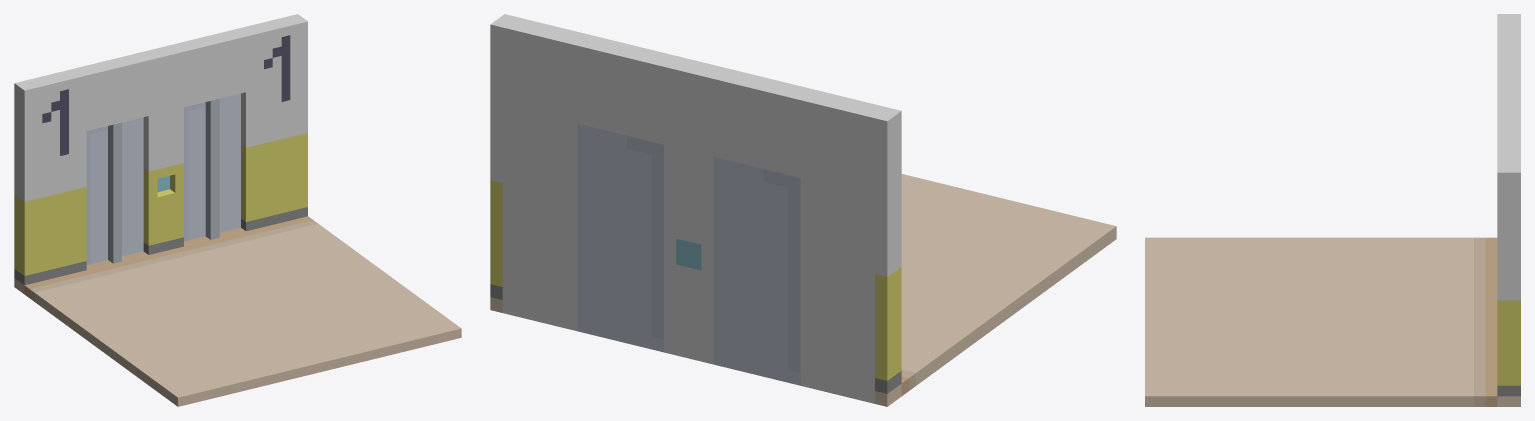
File: corridor_test.gltf
3 renders of one model, left to right at view 1: azimuth 30°, elevation 25°; view 2: azimuth 150°, elevation 25°; view 3: azimuth 270°, elevation 25°, orthographic. The views are drawn at different scales.
Bounding box in the file's own units: 32 × 22 × 32.
